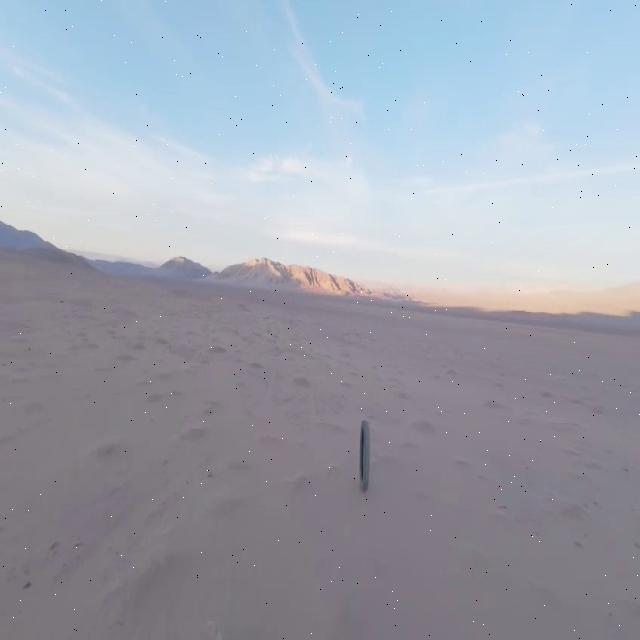Tire: (359, 420, 369, 490)
